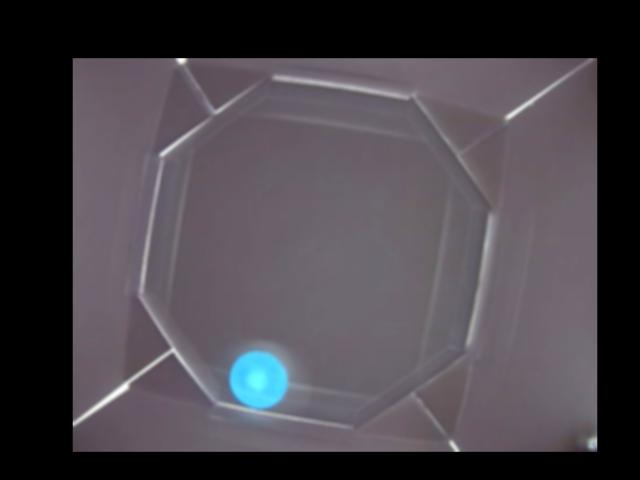Carrot: (228, 349, 288, 410)
